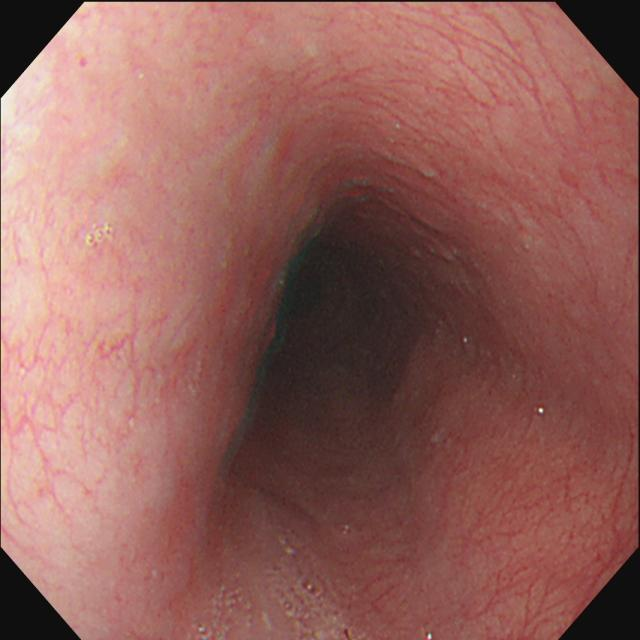E: (270, 230, 418, 405)
T: (270, 537, 337, 640), (192, 572, 256, 640)
